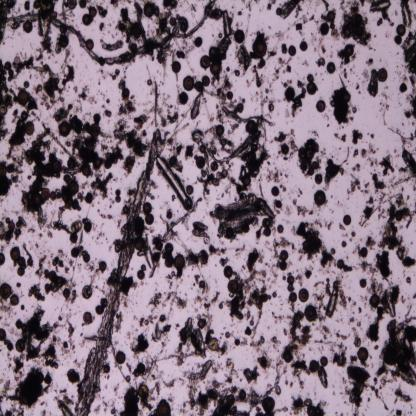Background material: (74, 138, 172, 416), (23, 120, 72, 177), (208, 194, 268, 238), (39, 46, 76, 110), (378, 314, 416, 364), (174, 314, 215, 360), (18, 306, 52, 361), (281, 309, 312, 363), (339, 4, 374, 51), (55, 170, 84, 220), (181, 378, 218, 416), (368, 276, 401, 318), (9, 366, 44, 405), (295, 219, 324, 263), (331, 72, 354, 126), (238, 145, 271, 179), (346, 365, 370, 409), (0, 0, 22, 48), (202, 73, 236, 104), (378, 201, 399, 251), (298, 138, 323, 178), (245, 382, 276, 414), (212, 390, 250, 416), (232, 270, 268, 294), (21, 176, 45, 212), (0, 61, 18, 108), (222, 290, 245, 326), (363, 306, 384, 345), (152, 5, 175, 40), (118, 383, 142, 416), (182, 243, 210, 271), (35, 14, 56, 51), (124, 129, 151, 157), (400, 28, 416, 74), (245, 283, 272, 310), (0, 212, 27, 239), (156, 99, 182, 127), (198, 166, 220, 198), (90, 170, 114, 199), (181, 359, 211, 382), (23, 205, 49, 231), (388, 125, 416, 149), (6, 126, 25, 161), (163, 285, 189, 310), (68, 113, 92, 140), (374, 249, 394, 281), (116, 6, 133, 43), (4, 155, 26, 183), (128, 331, 149, 360), (12, 53, 36, 78), (291, 79, 306, 119), (321, 159, 339, 192), (254, 346, 275, 374), (168, 38, 195, 59), (203, 302, 216, 345), (98, 266, 116, 297), (399, 148, 416, 179), (148, 354, 166, 382), (41, 342, 59, 370), (344, 173, 362, 201), (134, 107, 154, 132), (288, 391, 308, 416), (122, 277, 138, 308), (226, 176, 252, 195), (235, 42, 252, 71), (76, 86, 98, 108), (166, 350, 196, 366), (335, 49, 359, 69), (11, 352, 26, 382), (57, 391, 75, 416), (387, 172, 412, 190), (110, 116, 126, 144), (271, 236, 296, 253), (0, 176, 21, 196), (105, 146, 124, 168), (26, 94, 42, 120), (318, 245, 335, 269), (150, 78, 158, 128), (257, 115, 273, 140), (360, 203, 376, 228), (242, 363, 260, 385), (394, 382, 412, 404), (398, 363, 416, 385), (53, 310, 72, 330), (52, 103, 72, 122), (166, 135, 184, 156), (224, 356, 238, 383), (366, 68, 378, 99), (314, 292, 326, 323), (402, 204, 416, 230), (218, 34, 232, 60), (85, 259, 98, 287), (27, 283, 46, 302), (1, 320, 21, 338), (251, 308, 262, 340), (370, 172, 386, 194), (58, 0, 74, 22), (251, 63, 265, 88), (59, 250, 76, 270), (403, 93, 416, 119), (247, 247, 260, 273), (386, 192, 407, 208), (268, 260, 280, 288), (157, 46, 171, 70), (47, 219, 71, 233), (148, 291, 163, 313), (0, 110, 11, 140), (380, 154, 395, 176), (218, 134, 236, 152), (50, 275, 67, 294), (290, 359, 310, 375), (3, 402, 25, 416), (96, 206, 114, 223), (331, 350, 348, 368), (316, 323, 333, 340), (265, 166, 281, 184), (100, 40, 124, 52), (36, 253, 47, 279), (260, 94, 275, 113), (378, 91, 391, 112), (32, 45, 45, 66), (172, 121, 188, 138), (216, 183, 231, 201), (209, 243, 228, 257), (0, 379, 11, 403), (123, 155, 135, 177), (0, 301, 16, 317), (90, 230, 107, 245), (214, 102, 225, 125), (338, 282, 347, 310), (170, 153, 184, 171), (381, 9, 395, 27), (166, 268, 182, 283), (375, 361, 390, 377), (142, 358, 152, 381), (294, 267, 306, 286), (329, 21, 341, 40), (335, 328, 351, 342), (67, 367, 81, 383), (360, 260, 376, 274), (150, 381, 161, 401), (21, 240, 33, 258), (242, 0, 260, 12), (255, 406, 276, 416), (234, 242, 246, 259), (315, 147, 328, 162), (138, 398, 154, 410), (266, 45, 278, 61), (270, 336, 282, 352), (370, 385, 382, 401), (118, 106, 137, 116), (191, 295, 208, 306), (314, 339, 337, 347), (96, 4, 109, 18), (124, 94, 137, 108), (318, 398, 328, 416), (205, 124, 217, 139), (52, 256, 64, 271), (376, 205, 388, 220), (272, 64, 282, 82), (60, 340, 71, 356), (162, 0, 178, 11), (288, 136, 298, 153), (270, 311, 284, 323), (79, 332, 90, 347), (366, 235, 377, 250), (211, 379, 226, 390), (332, 132, 347, 143), (308, 205, 323, 216), (160, 336, 169, 354), (350, 128, 360, 144), (192, 197, 202, 213), (208, 9, 224, 19), (335, 270, 345, 286), (274, 132, 290, 142), (277, 56, 293, 66), (244, 12, 250, 38), (226, 122, 239, 134), (211, 360, 222, 374), (402, 257, 416, 268), (367, 156, 379, 168), (250, 340, 262, 352), (220, 340, 229, 356), (294, 3, 303, 19), (296, 205, 308, 217), (280, 78, 293, 89), (256, 56, 266, 70), (126, 326, 136, 340), (409, 74, 416, 94), (211, 290, 221, 304), (256, 30, 270, 40), (389, 367, 399, 381), (296, 372, 304, 389), (161, 379, 176, 388), (100, 130, 112, 141), (110, 68, 120, 81), (264, 239, 274, 252), (401, 244, 410, 258), (212, 73, 221, 87), (148, 405, 159, 416), (283, 151, 294, 162), (293, 20, 304, 31), (72, 358, 84, 368), (162, 323, 172, 335), (324, 220, 334, 232), (178, 402, 188, 414), (351, 404, 361, 416), (186, 143, 194, 158), (348, 354, 358, 366), (206, 111, 216, 123), (159, 90, 171, 100), (265, 77, 272, 94), (362, 68, 371, 81), (256, 226, 262, 245), (353, 243, 361, 257), (147, 313, 158, 323), (42, 384, 53, 394), (51, 334, 61, 345), (4, 340, 14, 351), (67, 278, 77, 289), (118, 78, 127, 90), (102, 395, 108, 413), (202, 282, 211, 294), (115, 238, 122, 253), (312, 280, 325, 288), (68, 338, 76, 351), (165, 207, 173, 220), (229, 385, 239, 395), (219, 256, 229, 266), (282, 64, 292, 74), (315, 58, 326, 67), (108, 396, 117, 407), (354, 334, 361, 348), (276, 30, 284, 42), (368, 142, 376, 154), (246, 75, 254, 87), (399, 82, 407, 94), (347, 0, 359, 8), (272, 249, 280, 261), (285, 205, 293, 217), (305, 268, 313, 280), (380, 374, 388, 386), (70, 290, 77, 303), (12, 109, 21, 119), (109, 407, 119, 416), (366, 195, 375, 205), (352, 163, 361, 173), (318, 34, 324, 49), (258, 183, 264, 198), (396, 74, 407, 82), (321, 0, 329, 11), (277, 406, 288, 414), (99, 69, 107, 80), (80, 181, 88, 192), (351, 326, 359, 337), (95, 401, 101, 415), (126, 361, 133, 373), (175, 82, 182, 94), (288, 301, 295, 313), (290, 225, 297, 237), (314, 219, 323, 228), (384, 30, 393, 39), (310, 129, 319, 138), (110, 0, 119, 9), (203, 302, 211, 312), (28, 226, 36, 236), (193, 274, 201, 284), (381, 109, 386, 125), (190, 3, 198, 13), (150, 333, 158, 343), (364, 58, 374, 66), (258, 251, 264, 264), (241, 336, 248, 347), (301, 14, 308, 25), (360, 360, 369, 368), (364, 181, 370, 193), (105, 110, 114, 118), (344, 386, 352, 395), (100, 142, 108, 151), (284, 108, 290, 120), (320, 43, 326, 55), (318, 268, 330, 274), (344, 264, 353, 272), (139, 316, 145, 328), (210, 146, 218, 155), (23, 3, 31, 12), (310, 32, 316, 44), (339, 221, 346, 231), (168, 393, 175, 403), (226, 162, 233, 172), (159, 78, 165, 89), (246, 310, 252, 321), (76, 262, 82, 273), (383, 400, 389, 411), (312, 389, 318, 400), (204, 196, 210, 207), (360, 147, 366, 158), (114, 383, 119, 396), (322, 113, 330, 121), (317, 346, 325, 354), (279, 184, 287, 192), (40, 400, 48, 408), (336, 199, 344, 207), (301, 59, 310, 66), (133, 368, 139, 378), (352, 148, 358, 158), (350, 64, 356, 74), (344, 67, 349, 79), (276, 150, 282, 160), (336, 316, 343, 324), (360, 295, 368, 302), (46, 231, 54, 238), (359, 0, 367, 7), (239, 96, 246, 104), (99, 22, 106, 30), (5, 238, 12, 246), (286, 260, 293, 268), (195, 119, 200, 130), (158, 215, 164, 224), (350, 302, 356, 311), (282, 219, 291, 225), (235, 21, 241, 30), (230, 330, 235, 340), (266, 1, 271, 11), (298, 186, 303, 196), (117, 219, 122, 229), (47, 260, 52, 270), (373, 376, 378, 386), (396, 409, 403, 416), (65, 141, 72, 148), (338, 342, 344, 350), (342, 377, 348, 385), (264, 113, 272, 119), (364, 382, 370, 390), (59, 388, 67, 394), (376, 18, 382, 26), (258, 174, 264, 182), (349, 114, 355, 122), (249, 93, 254, 102), (65, 266, 70, 275), (255, 90, 259, 101), (0, 405, 4, 416), (40, 409, 47, 415), (34, 243, 40, 250), (278, 98, 285, 104), (410, 185, 416, 192), (393, 398, 399, 405), (320, 14, 326, 21), (308, 15, 314, 22), (142, 129, 148, 136), (260, 89, 264, 99), (324, 198, 328, 208), (124, 0, 132, 5), (333, 258, 337, 268), (241, 70, 246, 78), (6, 352, 11, 360), (401, 296, 406, 304), (290, 128, 295, 136), (394, 149, 399, 157), (235, 338, 240, 346), (275, 207, 280, 215), (175, 322, 180, 330), (356, 82, 361, 90), (267, 382, 273, 388), (13, 210, 19, 216), (298, 31, 304, 37), (394, 9, 400, 15), (104, 375, 111, 380), (16, 281, 21, 288), (105, 97, 110, 104), (413, 12, 416, 23), (408, 402, 412, 410), (175, 74, 179, 82), (220, 332, 224, 340), (172, 194, 176, 202), (290, 380, 294, 388), (284, 173, 289, 179), (387, 379, 393, 384), (237, 10, 242, 16), (285, 376, 288, 386), (100, 103, 106, 108), (241, 266, 246, 272), (353, 266, 359, 271), (330, 346, 335, 352), (342, 233, 348, 238), (277, 294, 283, 299), (349, 317, 355, 322), (133, 314, 138, 320), (329, 51, 334, 57), (314, 20, 320, 25), (340, 0, 346, 5), (356, 320, 361, 326), (292, 199, 296, 206), (345, 254, 349, 261), (313, 46, 317, 53), (326, 276, 330, 283), (310, 264, 314, 271), (331, 391, 336, 396), (27, 175, 32, 180), (193, 307, 198, 312), (330, 208, 335, 213), (53, 396, 58, 401), (266, 161, 271, 166), (358, 307, 362, 313), (413, 201, 416, 209), (330, 270, 336, 274), (374, 344, 378, 350), (108, 244, 112, 250), (226, 66, 230, 72), (68, 334, 74, 338), (406, 195, 410, 201), (73, 86, 77, 92), (8, 363, 12, 369), (378, 384, 382, 390), (38, 233, 42, 239), (326, 122, 330, 128), (264, 261, 268, 267), (386, 103, 389, 110), (400, 225, 404, 230), (344, 346, 348, 351), (271, 0, 276, 4), (270, 139, 274, 144), (390, 409, 394, 414), (370, 134, 374, 139), (339, 391, 344, 395), (108, 22, 112, 27), (350, 310, 354, 315), (312, 184, 316, 189), (339, 412, 344, 416), (0, 315, 3, 321), (367, 397, 370, 403), (105, 384, 108, 390), (364, 302, 367, 308), (348, 296, 351, 302), (280, 170, 283, 176), (384, 85, 388, 89), (54, 390, 58, 394), (338, 147, 342, 151), (280, 302, 284, 306), (394, 70, 398, 74), (111, 34, 115, 38), (347, 79, 351, 83), (233, 99, 237, 103), (330, 194, 333, 199), (401, 187, 404, 192), (287, 26, 290, 31), (309, 347, 312, 352), (411, 121, 414, 126), (369, 354, 372, 359), (302, 353, 305, 358), (286, 35, 289, 39), (239, 378, 242, 382), (366, 132, 370, 135), (98, 80, 100, 86), (314, 73, 318, 76), (379, 58, 382, 62), (358, 90, 361, 94), (413, 294, 416, 298), (344, 400, 347, 404), (302, 38, 305, 42), (410, 241, 413, 245), (288, 196, 291, 200), (362, 412, 365, 416), (335, 411, 338, 415), (396, 52, 400, 55), (97, 201, 100, 205), (317, 29, 320, 33), (268, 26, 272, 29), (297, 194, 300, 198), (346, 162, 350, 165), (119, 396, 122, 399), (358, 77, 361, 80), (92, 204, 95, 207), (364, 408, 367, 411), (396, 65, 399, 68), (361, 190, 364, 193), (291, 119, 294, 122), (410, 411, 413, 414), (193, 283, 196, 286), (402, 122, 404, 126), (286, 122, 288, 126), (374, 34, 376, 38), (302, 0, 304, 4), (212, 34, 214, 38), (364, 313, 366, 317), (240, 138, 244, 140), (350, 238, 352, 242), (374, 169, 376, 172), (215, 264, 217, 267), (407, 411, 409, 414), (322, 78, 324, 81), (373, 49, 376, 51), (392, 414, 395, 416), (414, 0, 416, 3), (342, 126, 344, 129), (0, 349, 2, 352), (332, 156, 334, 158), (108, 31, 110, 33), (392, 388, 393, 392), (61, 363, 63, 365), (389, 388, 391, 390), (356, 75, 358, 76)
Cellulose filter fibre: (5, 0, 217, 72), (192, 129, 262, 162), (162, 197, 202, 245), (219, 102, 271, 125), (132, 1, 148, 44), (404, 305, 416, 322), (340, 147, 350, 166)
Diatom: (324, 283, 338, 318), (275, 354, 287, 386), (256, 198, 274, 219), (401, 0, 413, 28), (281, 0, 298, 18), (252, 38, 268, 56), (223, 10, 233, 36), (262, 397, 278, 413), (383, 348, 397, 366), (304, 304, 317, 323), (369, 0, 391, 11), (130, 21, 142, 41), (318, 366, 328, 390), (173, 252, 186, 270), (0, 282, 13, 300), (190, 97, 200, 120), (145, 246, 155, 269), (158, 400, 172, 416), (143, 1, 155, 18), (59, 121, 72, 136), (306, 82, 319, 96), (314, 191, 326, 206), (245, 118, 256, 134), (377, 68, 389, 82), (208, 46, 220, 60), (298, 288, 310, 302), (199, 56, 211, 70), (183, 76, 195, 90), (357, 347, 369, 361), (227, 279, 238, 294), (116, 350, 127, 365), (138, 383, 149, 398), (44, 162, 55, 177), (69, 180, 79, 196), (207, 338, 220, 350), (22, 21, 34, 34), (209, 61, 221, 74), (58, 34, 70, 47), (32, 191, 43, 205), (82, 285, 93, 299), (135, 236, 146, 250), (192, 221, 209, 230), (178, 91, 188, 106), (18, 90, 28, 105), (24, 120, 34, 135), (10, 246, 20, 261), (240, 174, 252, 186), (170, 61, 182, 73), (195, 156, 206, 169), (90, 122, 100, 136), (81, 162, 91, 176), (235, 30, 245, 44), (369, 294, 379, 308), (15, 339, 25, 353), (285, 87, 295, 101), (325, 10, 336, 22), (82, 312, 93, 324), (307, 404, 318, 416), (9, 294, 20, 306), (71, 221, 83, 232), (193, 80, 204, 92), (197, 317, 207, 330), (316, 100, 326, 113), (344, 44, 354, 57), (82, 13, 92, 26), (40, 323, 53, 333), (223, 265, 233, 278), (0, 162, 8, 178), (192, 229, 208, 237), (327, 61, 336, 75), (142, 202, 152, 214), (396, 24, 406, 36), (248, 193, 258, 205), (16, 118, 26, 130), (225, 226, 235, 238), (201, 74, 211, 86), (179, 21, 189, 33), (53, 161, 63, 173), (155, 323, 162, 340), (35, 371, 44, 384), (310, 360, 318, 374), (145, 214, 155, 225), (48, 270, 58, 281), (280, 144, 290, 155), (92, 112, 102, 123), (88, 6, 97, 18), (216, 124, 225, 136), (284, 352, 293, 364), (210, 160, 219, 172), (194, 36, 203, 48), (93, 156, 102, 168), (84, 38, 93, 50), (320, 23, 329, 35), (0, 327, 7, 342), (288, 44, 296, 57), (116, 312, 121, 332), (299, 41, 309, 51), (67, 0, 78, 9), (33, 66, 47, 73), (360, 246, 368, 258), (42, 188, 50, 200), (280, 249, 288, 261), (237, 102, 245, 114), (204, 151, 210, 167), (164, 258, 174, 267), (164, 243, 174, 252), (306, 72, 315, 82), (320, 356, 329, 366), (130, 42, 139, 52), (59, 24, 68, 34), (70, 233, 79, 243), (344, 25, 352, 36), (63, 287, 71, 298), (85, 192, 93, 203), (359, 278, 367, 289), (137, 363, 145, 374), (82, 252, 90, 263), (122, 88, 130, 99), (264, 227, 272, 238), (279, 260, 287, 271), (18, 256, 26, 267), (84, 221, 92, 232), (395, 210, 403, 221), (239, 390, 247, 401), (7, 220, 15, 231), (397, 248, 404, 260), (32, 0, 41, 9), (14, 320, 23, 329), (137, 270, 145, 280), (315, 174, 323, 184), (343, 215, 351, 225), (0, 104, 8, 114), (186, 184, 194, 194), (96, 305, 104, 315), (302, 398, 312, 406), (226, 90, 234, 100), (271, 186, 279, 196), (17, 266, 25, 276), (262, 218, 270, 228), (71, 248, 79, 258), (104, 159, 112, 169), (288, 292, 296, 302), (102, 364, 110, 374), (99, 260, 107, 270), (394, 36, 402, 46), (4, 61, 12, 70), (0, 253, 6, 265), (21, 112, 29, 121), (168, 18, 177, 26), (68, 158, 76, 167), (44, 374, 51, 384), (337, 259, 344, 269), (250, 143, 258, 151), (288, 276, 296, 284), (275, 200, 282, 209), (101, 298, 108, 307), (222, 169, 228, 179), (276, 6, 282, 16), (275, 384, 281, 394), (312, 161, 319, 169), (23, 80, 30, 88), (277, 224, 284, 232), (79, 0, 86, 8), (204, 236, 211, 244), (159, 314, 166, 322), (14, 56, 21, 64), (200, 144, 206, 153), (26, 149, 32, 158), (216, 171, 222, 180), (50, 192, 56, 200), (282, 328, 288, 336), (140, 262, 146, 270), (27, 258, 33, 266), (115, 196, 121, 204), (146, 78, 152, 86), (246, 328, 252, 336), (52, 11, 58, 18), (68, 326, 74, 333), (199, 281, 205, 288), (352, 106, 357, 114), (269, 103, 274, 111), (45, 283, 50, 291), (115, 189, 121, 195), (36, 85, 42, 91), (235, 70, 240, 77), (342, 241, 347, 248), (272, 291, 277, 298), (249, 320, 254, 327), (358, 132, 363, 139), (260, 338, 265, 344), (330, 249, 336, 254), (325, 288, 330, 294), (225, 331, 230, 337), (5, 217, 10, 223), (406, 277, 411, 283), (340, 167, 344, 174), (144, 319, 148, 325), (126, 376, 130, 382), (282, 275, 286, 281), (351, 232, 356, 236), (218, 304, 222, 309), (21, 304, 24, 310), (219, 33, 222, 38)
Microfibre: (154, 154, 192, 213)
